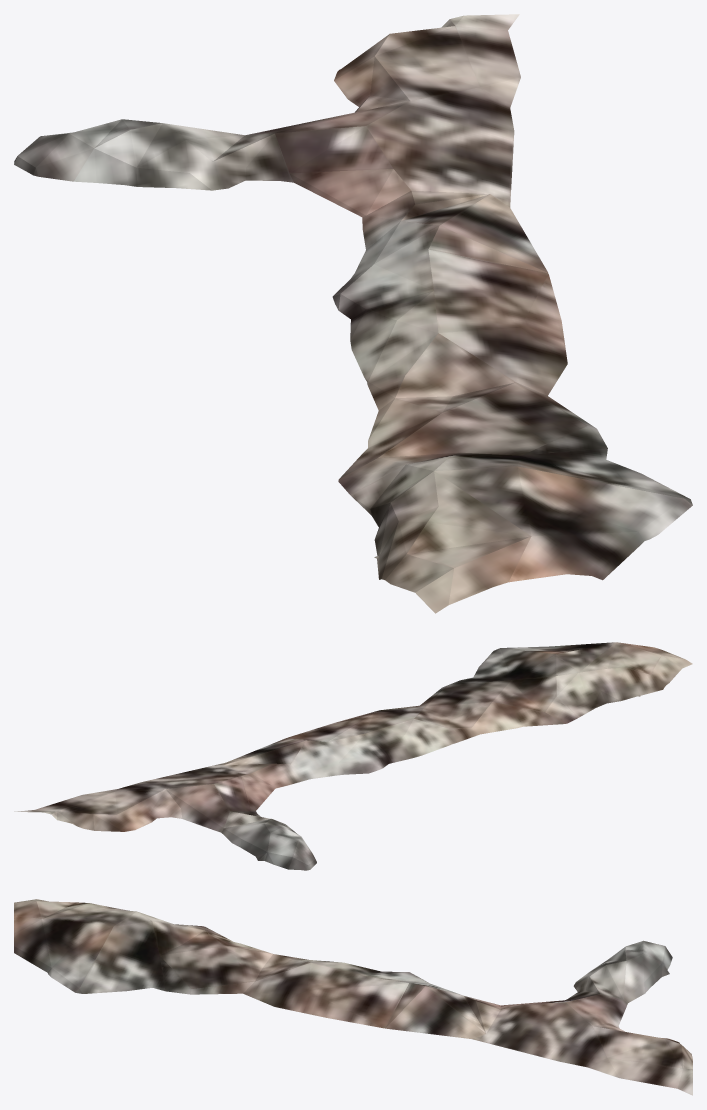
3 renders of one model, top to bottom at view 1: azimuth 30°, elevation 25°; view 2: azimuth 150°, elevation 25°; view 3: azimuth 270°, elevation 25°, orthographic. The views are drawn at different scales.
Size of the model in its own units: 1.1 by 0.0748 by 1.67.
1 material, 1 textured.
